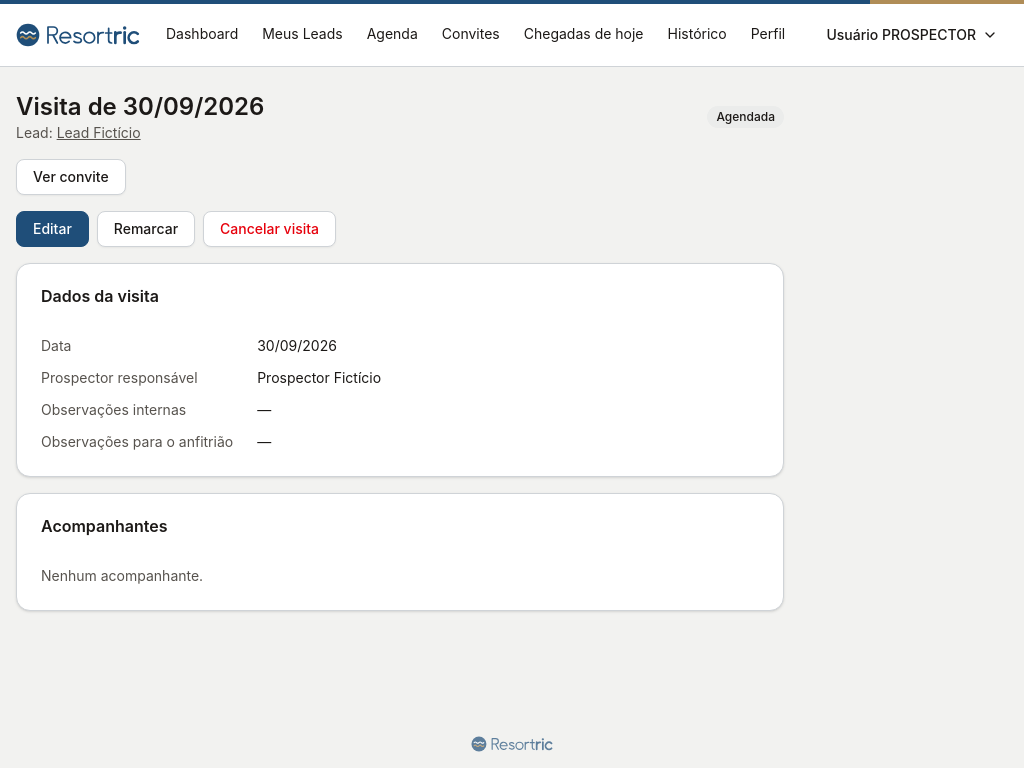
Test case: W7 — cancelar › pede confirmação e depois mostra o status atualizado, sem ações
The image size is (1024, 768).
Click the button "Cancelar visita" at (270, 229), box [203,211,336,247]
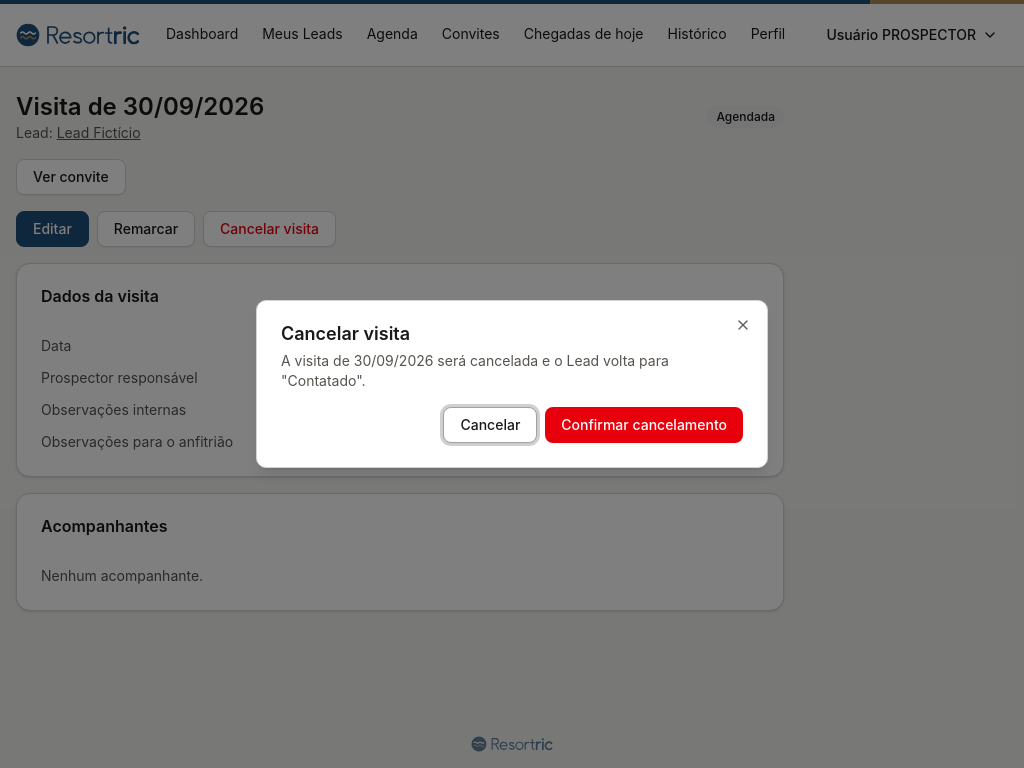
Check: the dialog "Cancelar visita" shows "o Lead volta para \"Contatado\"", box [281,352,669,389]
Click the button "Cancelar" at (490, 425), box [444,407,537,443]
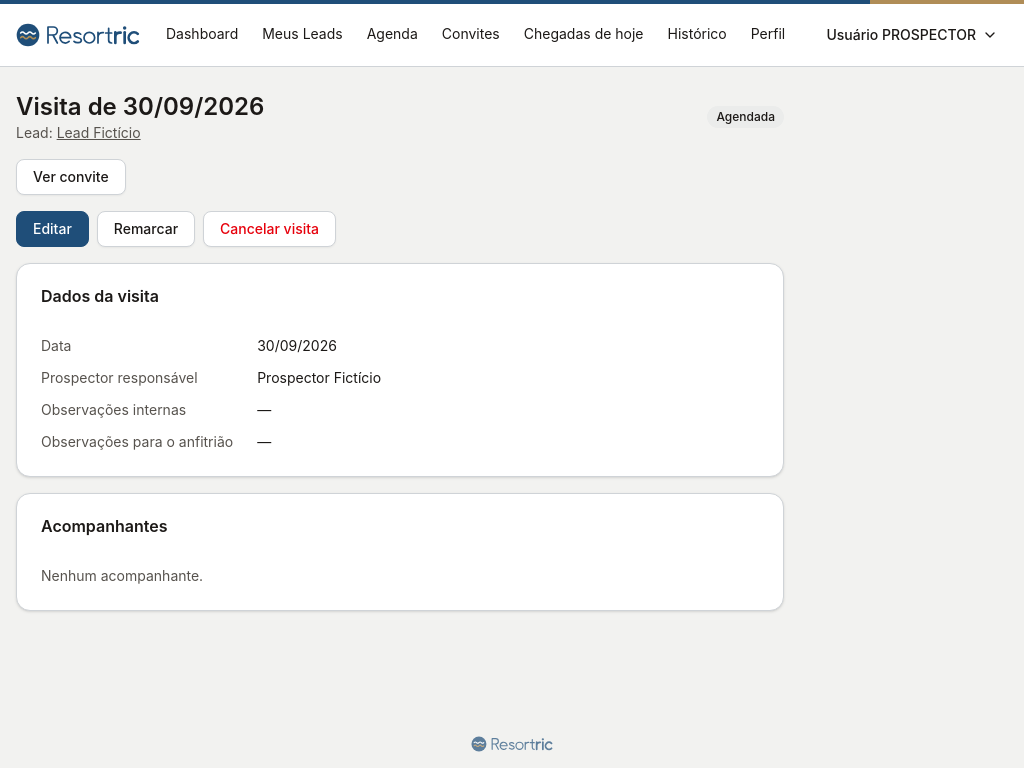
Check: the dialog is gone
Click the button "Cancelar visita" at (270, 229), box [203,211,336,247]
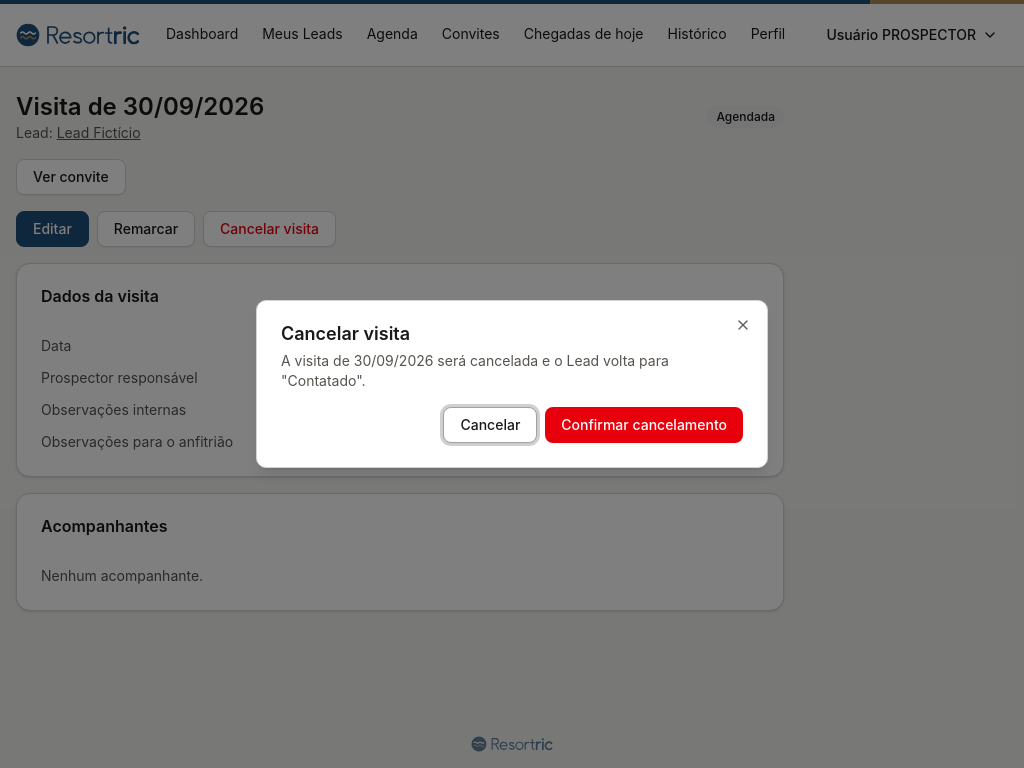
Click the button "Confirmar cancelamento" at (644, 425), box [545,407,743,443]
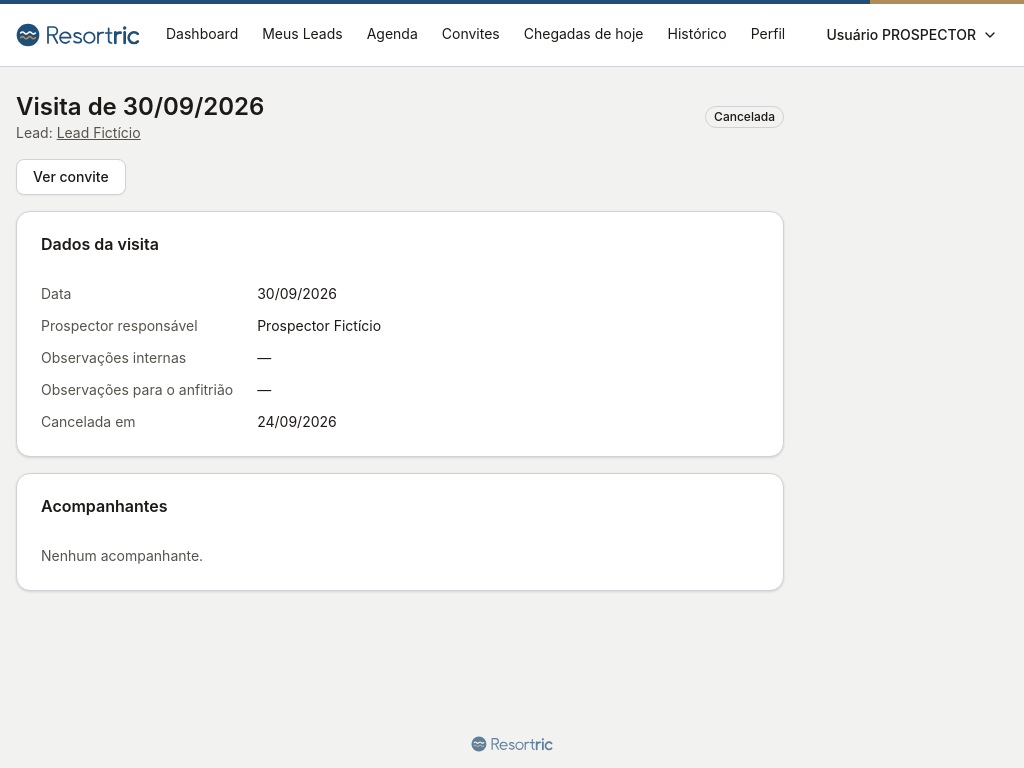
Check: the text "Cancelada" is shown, box [705,106,784,128]
Check: the button "Editar" is gone
Check: the button "Remarcar" is gone
